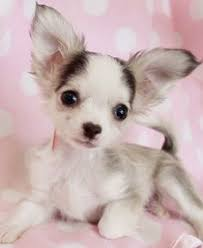chihuahua: (13, 1, 202, 248)
